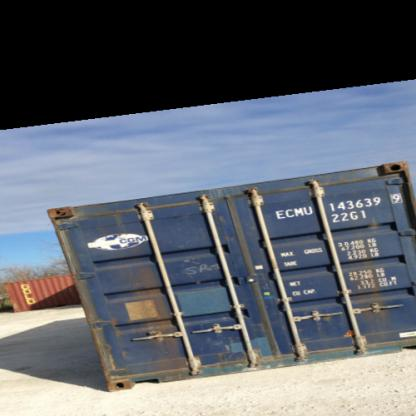Damage: (134, 262, 187, 360), (348, 236, 390, 322), (94, 307, 130, 390), (206, 320, 265, 369), (102, 202, 132, 240), (309, 305, 337, 337), (375, 157, 409, 181), (188, 256, 222, 280), (45, 203, 83, 224)
